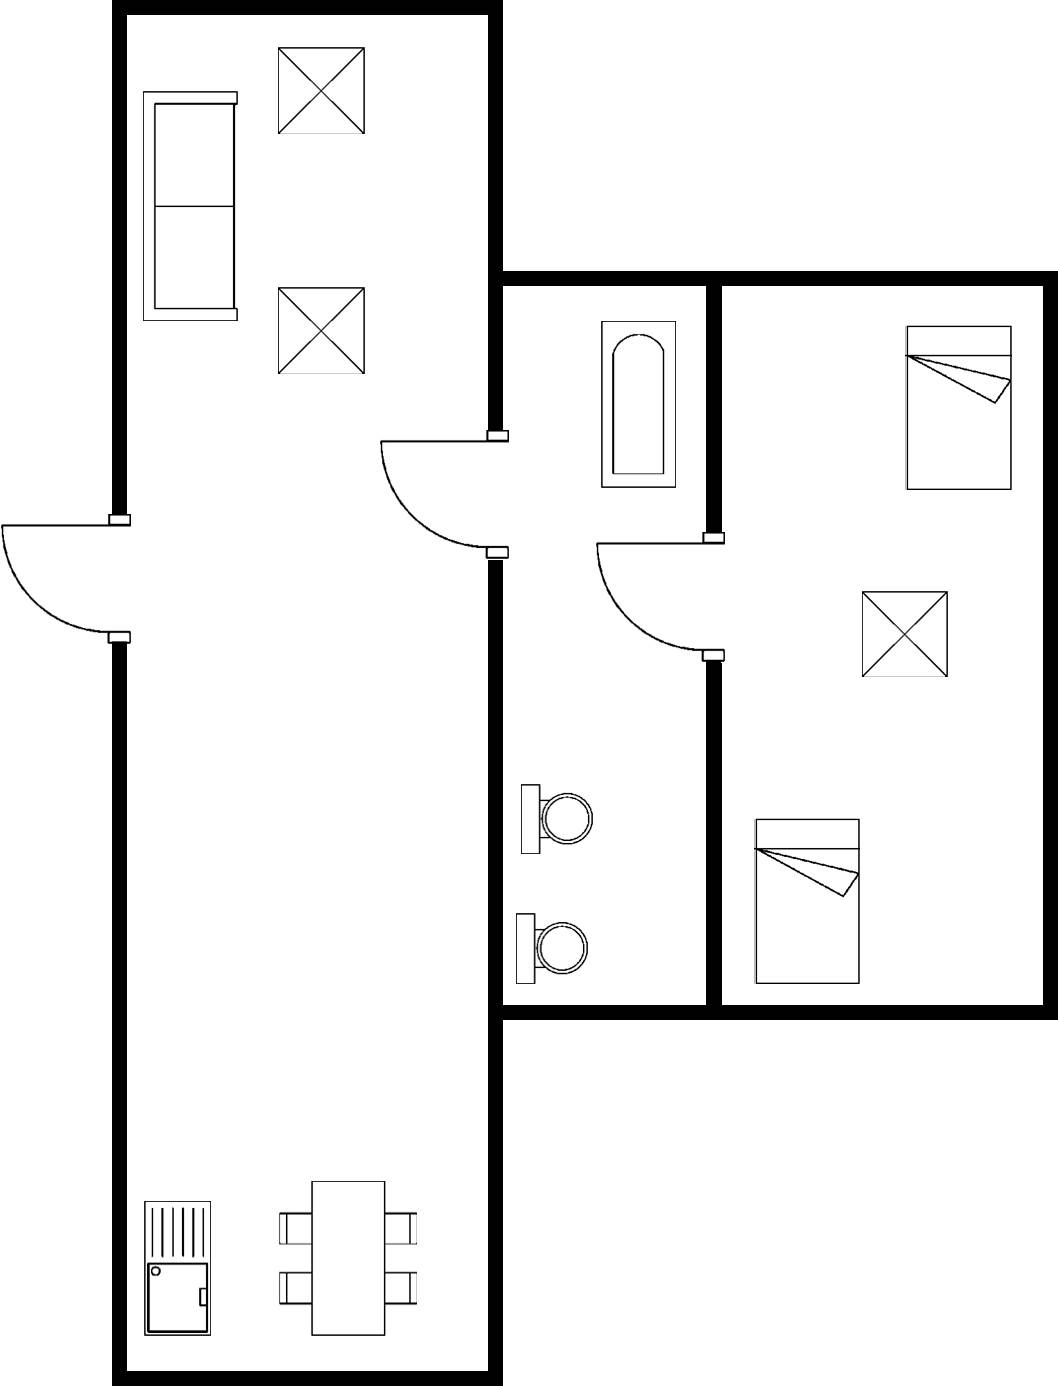bed: (896, 317, 1023, 500), (746, 809, 869, 992)
coffee_table: (270, 38, 375, 140), (270, 279, 373, 380), (856, 587, 955, 680)
dining_table: (269, 1171, 428, 1346)
large_sink: (510, 776, 600, 867), (510, 902, 594, 995)
large_sofa: (136, 83, 250, 333)
sink: (136, 1191, 219, 1345)
tub: (592, 314, 685, 494)
